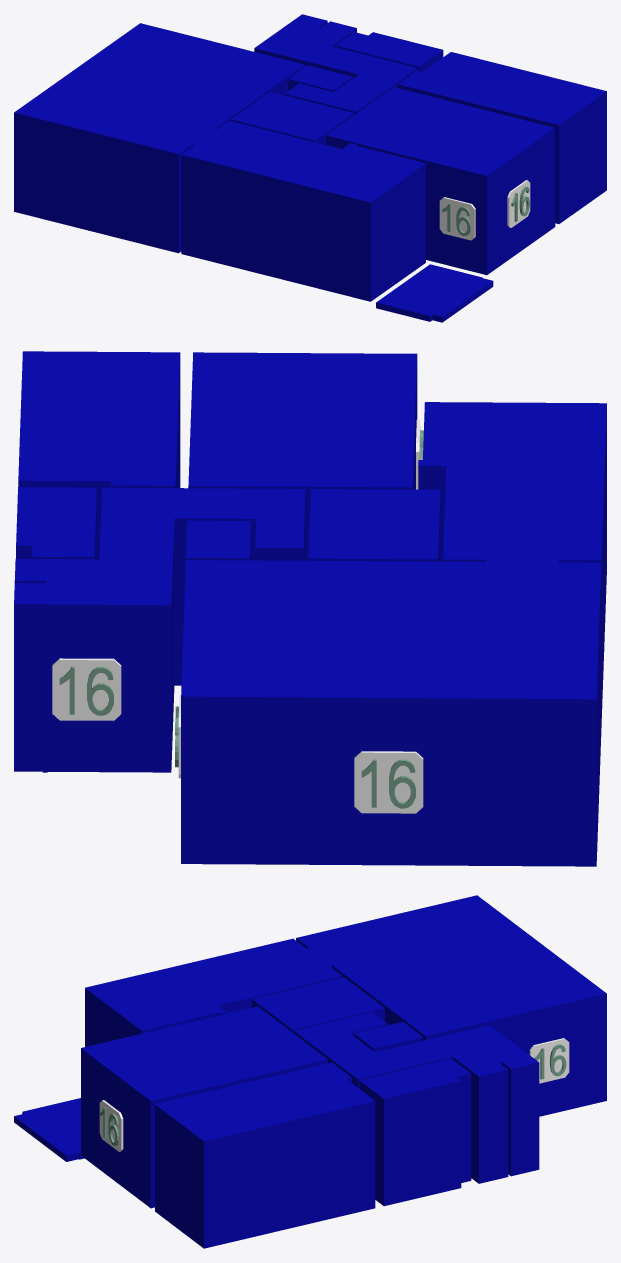
3 views of the same model, one above another, from view 1: azimuth 30°, elevation 25°; view 2: azimuth 150°, elevation 25°; view 3: azimuth 270°, elevation 25° (orthographic). The views are drawn at different scales.
Visible parts, largest first — view 1: g_7, g_6, g_0, g_1, g_3, g_8, g_4, g_2, g_11, g_5, g_23; view 2: g_7, g_3, g_0, g_6, g_1, g_4, g_2, g_20, g_14, g_5, g_19, g_13; view 3: g_1, g_7, g_0, g_3, g_6, g_2, g_4, g_8, g_5, g_17, g_23.
Part boxes in pixels (x1,y1,x2,y2): g_7: [14, 23, 304, 253]; g_6: [181, 120, 425, 301]; g_0: [326, 87, 555, 275]; g_1: [398, 52, 606, 223]; g_3: [254, 14, 417, 114]; g_8: [376, 264, 493, 322]; g_4: [231, 91, 354, 144]; g_2: [335, 32, 443, 71]; g_11: [439, 197, 475, 240]; g_5: [288, 65, 352, 91]; g_23: [507, 180, 530, 227]; g_7: [181, 560, 601, 866]; g_3: [14, 487, 305, 772]; g_0: [188, 352, 417, 560]; g_6: [418, 402, 606, 727]; g_1: [18, 351, 180, 559]; g_4: [308, 489, 440, 561]; g_2: [16, 487, 96, 559]; g_20: [354, 751, 423, 813]; g_14: [52, 658, 121, 720]; g_5: [186, 520, 250, 560]; g_19: [389, 759, 415, 808]; g_13: [87, 666, 113, 715]; g_1: [155, 1062, 375, 1248]; g_7: [296, 895, 606, 1116]; g_0: [81, 1006, 327, 1208]; g_3: [294, 1012, 539, 1183]; g_6: [85, 938, 342, 1046]; g_2: [359, 1058, 471, 1206]; g_4: [252, 977, 384, 1033]; g_8: [14, 1098, 84, 1161]; g_5: [353, 1022, 422, 1052]; g_17: [529, 1038, 569, 1083]; g_23: [99, 1100, 123, 1151].
Bounding box in the file's own units: 12.67 × 2.74 × 12.9.
